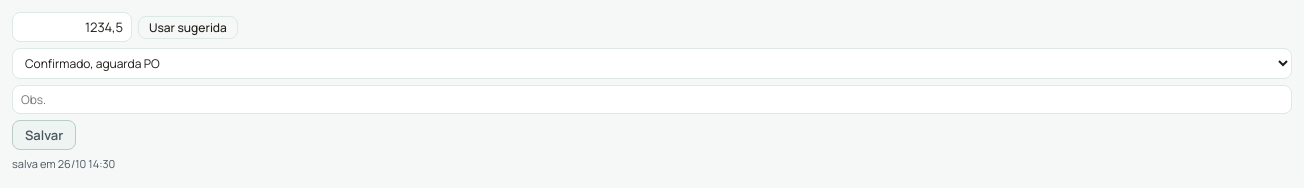
Test case: ForecastDecisaoCompra (celula) › campo vazio com decisao existente: "Apagar decisao" envia { quantidadeKg: null }
Clear the field named "Qtd. decidida (kg) de PRODUTO 001" at {"x": 72, "y": 27}, box [12,12,132,42]
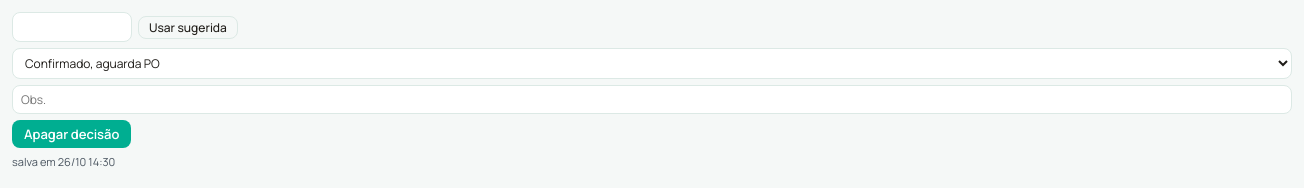
Click the button "Apagar decisão" at {"x": 72, "y": 134}, box [12,120,131,148]
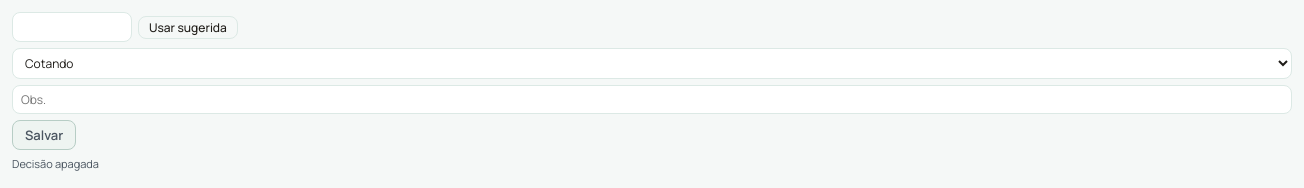
Result: the message reads "Decisão apagada" at [12,156,99,171]
